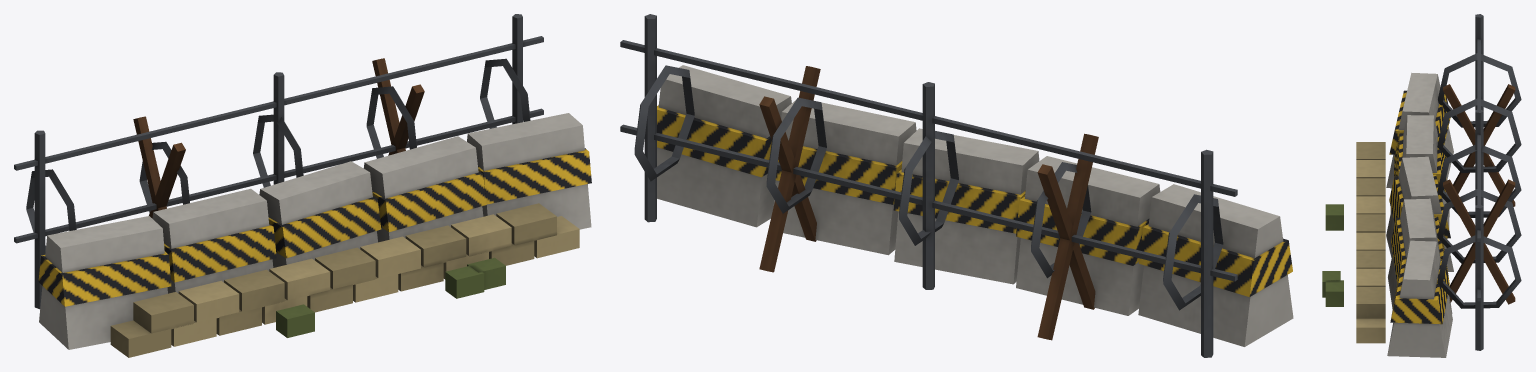
File: fort_l5_edge.glb
3 renders of one model, left to right at view 1: azimuth 30°, elevation 25°; view 2: azimuth 150°, elevation 25°; view 3: azimuth 270°, elevation 25°, orthographic. The views are drawn at different scales.
Parts seen in each view (by area): view 1: fort_l5_edge; view 2: fort_l5_edge; view 3: fort_l5_edge.
Boxes of the visible parts, <box> form: fort_l5_edge: <box>14,14,591,357</box>; fort_l5_edge: <box>620,14,1293,357</box>; fort_l5_edge: <box>1322,14,1521,357</box>.
Bounding box in the file's own units: 0.76 × 0.2427 × 0.3037.
1 material, 1 textured.
